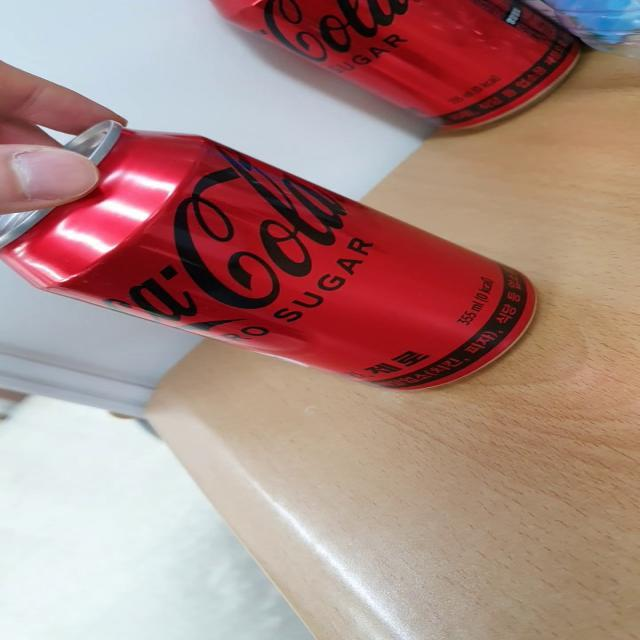coca-cola: (1, 119, 572, 407), (207, 2, 619, 138)
